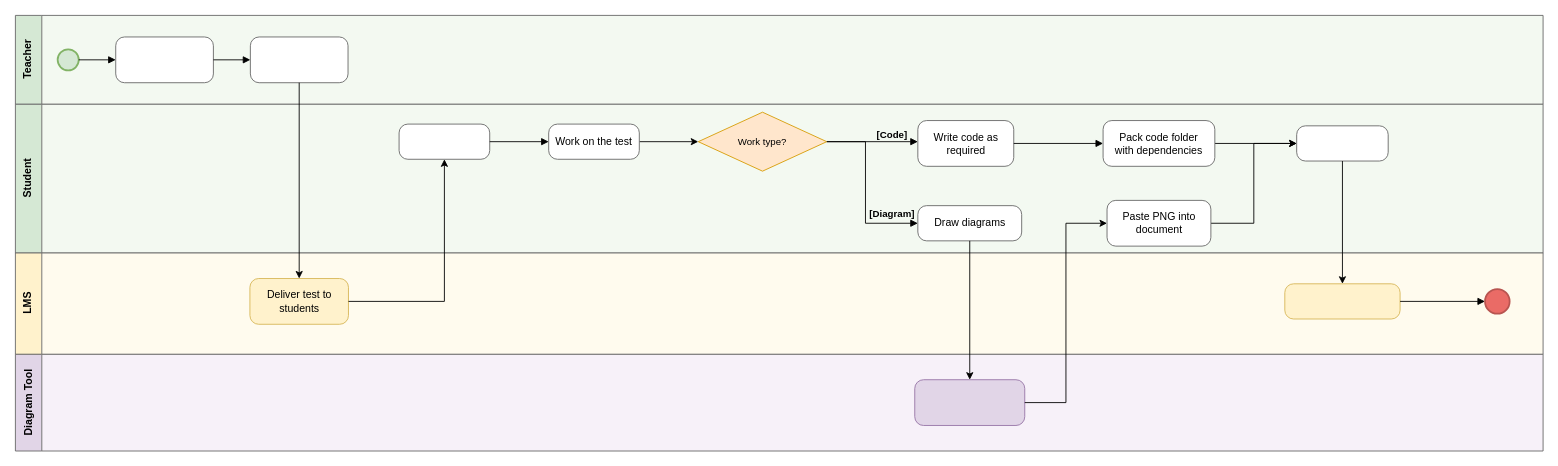
This 1558x466 diagram has some shape labels left out. The centre of each missing label's shape, as x and y in pixels:
"Assign test to students" goes at (298,59).
"Export diagrams as PNG" goes at (969,402).
"Receive test" goes at (444,141).
"Store submission" goes at (1342,301).
"Submit work" goes at (1342,143).
"Write test and rubric" goes at (164,59).
